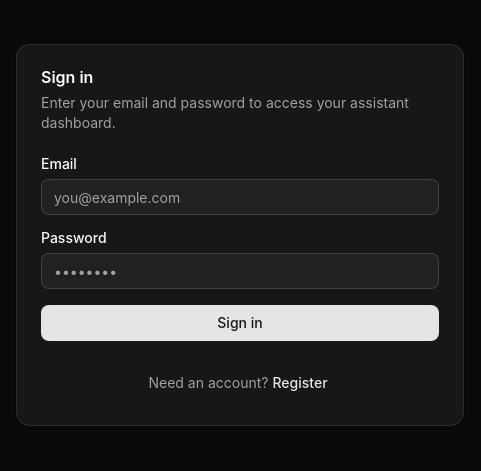
Scenario: Login › surfaces zod FormMessage errors on empty submit
Click the button "Sign in".
click(240, 323)  # box [41, 305, 439, 341]
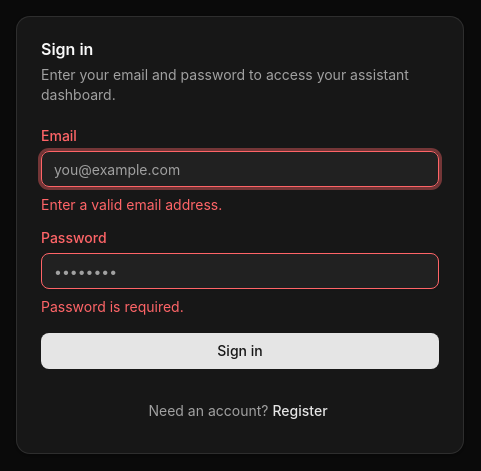
Now the text "Enter a valid email address." is shown, box [41, 196, 222, 213]
Now the text "Password is required." is shown, box [41, 298, 184, 315]
